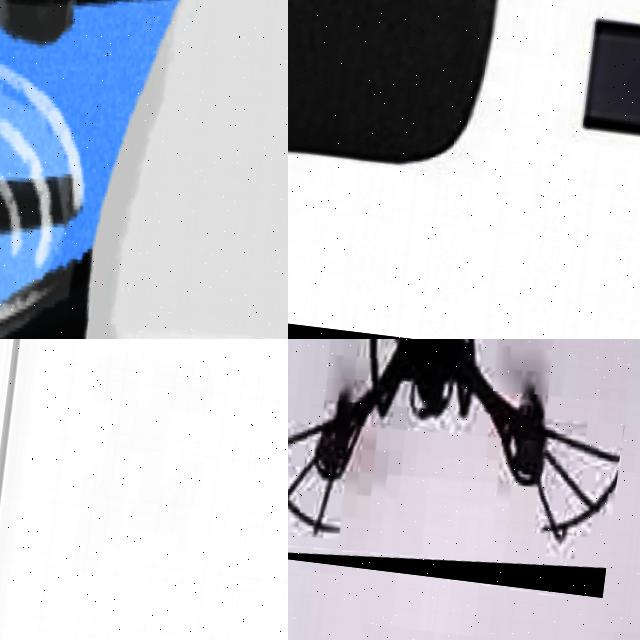drone: (0, 0, 288, 339), (288, 339, 640, 597)
